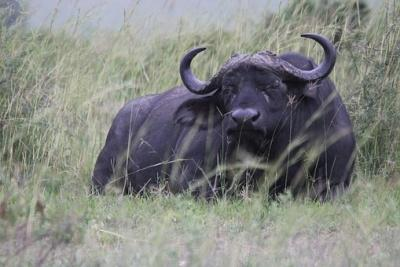buffalo: (92, 33, 355, 198)
